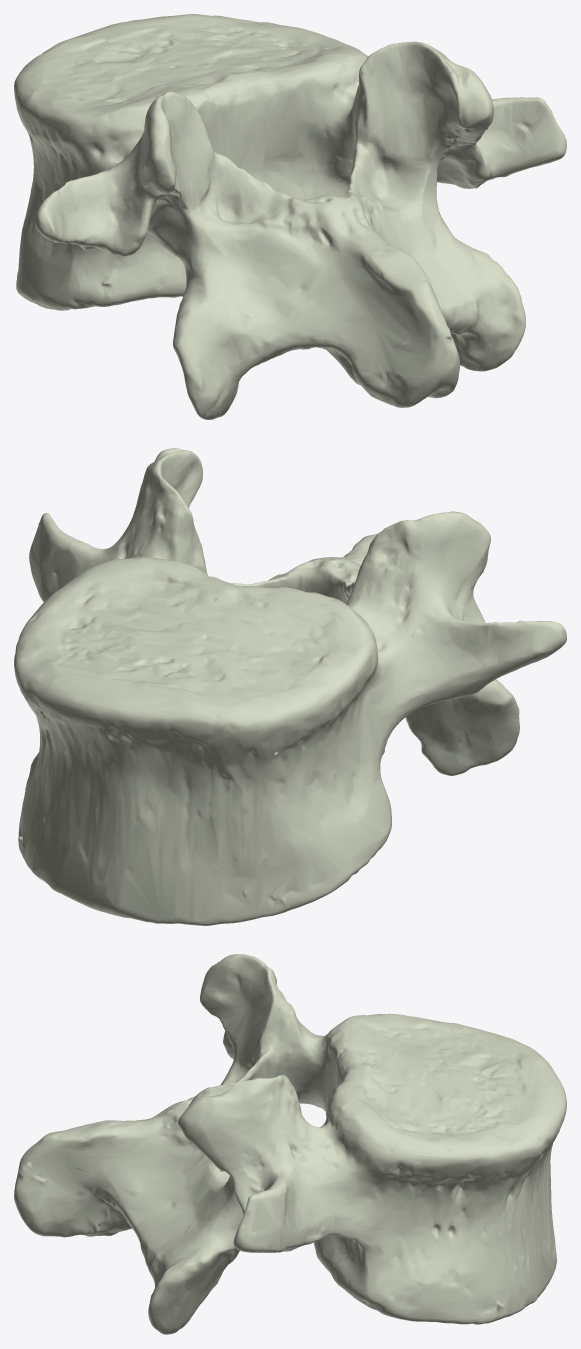
File: bederni.glb
3 renders of one model, top to bottom at view 1: azimuth 30°, elevation 25°; view 2: azimuth 150°, elevation 25°; view 3: azimuth 270°, elevation 25°, orthographic. The views are drawn at different scales.
Parts seen in each view (by area): view 1: Object_4; view 2: Object_4; view 3: Object_4.
Part boxes in pixels (x1=…): Object_4: x1=14, y1=14, x2=566, y2=419; Object_4: x1=14, y1=448, x2=566, y2=925; Object_4: x1=14, y1=954, x2=566, y2=1334.
Bounding box in the file's own units: 7.81 × 4.33 × 8.29.
